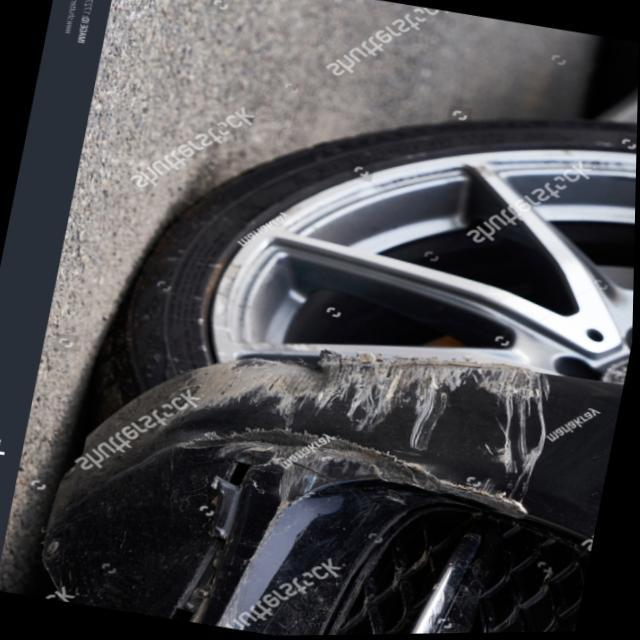Scratch: (91, 288, 586, 536)
